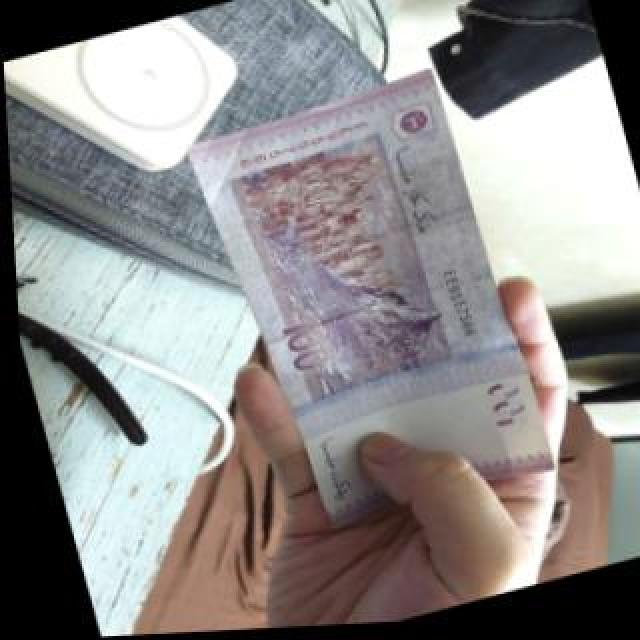100 Ringgit: (174, 64, 560, 559)
